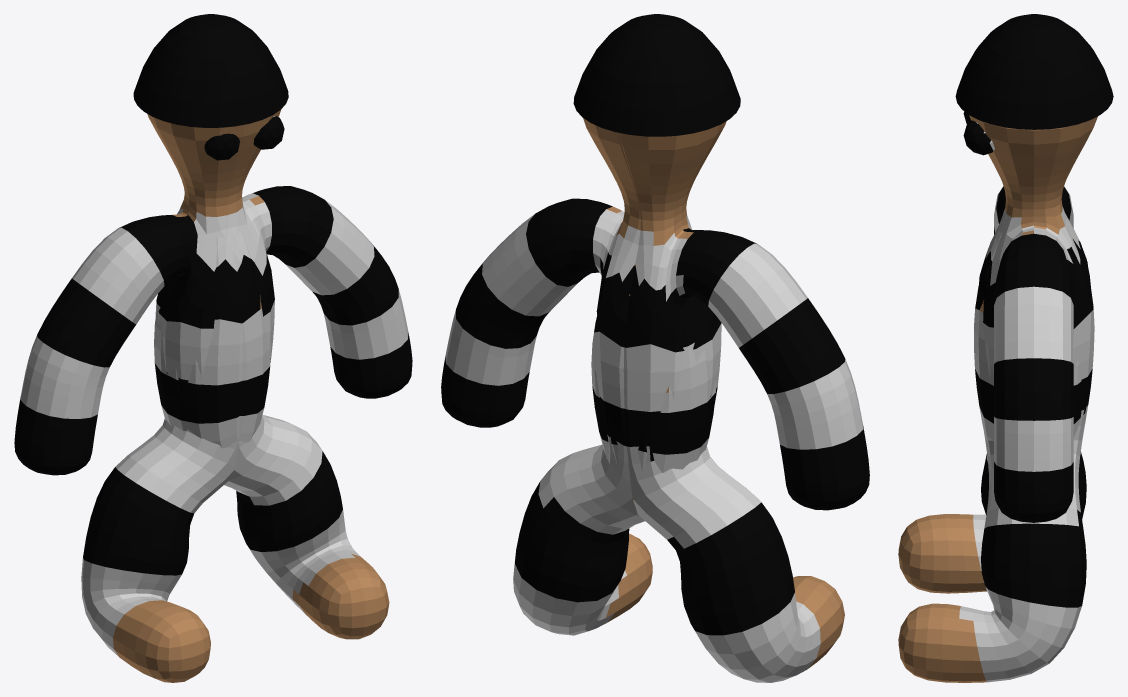
File: robber.fbx
The picture shows the model from 3 angles, left to right: view 1: azimuth 30°, elevation 25°; view 2: azimuth 150°, elevation 25°; view 3: azimuth 270°, elevation 25°; orthographic projection. The views are drawn at different scales.
Visible parts, largest first — view 1: Plane, Сфера; view 2: Plane, Сфера; view 3: Plane, Сфера.
Part boxes in pixels (box(x1,y1,x2,y2)): Plane: box(14, 109, 412, 682); Сфера: box(133, 14, 288, 127); Plane: box(441, 118, 869, 682); Сфера: box(573, 14, 740, 136); Plane: box(898, 111, 1097, 682); Сфера: box(955, 14, 1113, 129).
Bounding box in the file's own units: 36.23 × 17.18 × 54.08.
